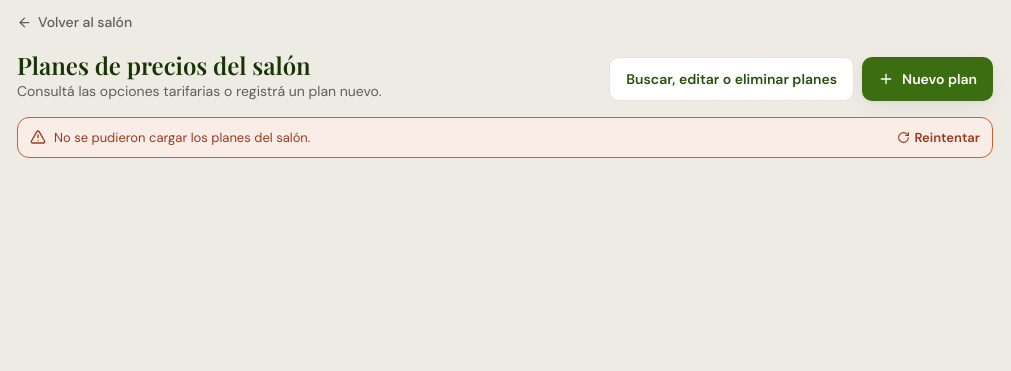
Test: HU-009 listado de planes del salón › muestra un error con "Reintentar" si la lista no carga
Expected: the text "No se pudieron cargar los planes del salón." is shown, [54,128,310,146]
Click the button "Reintentar" at (939, 137), box [897,128,980,147]
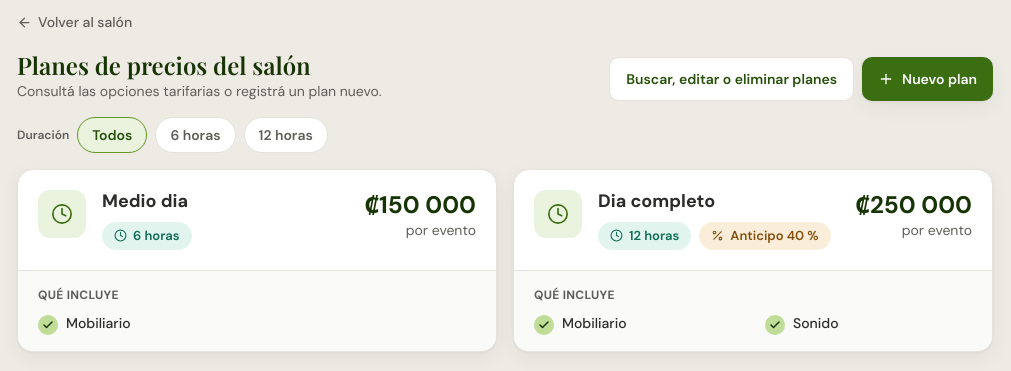
Expected: the heading "Medio dia" is shown, [102,190,188,212]
